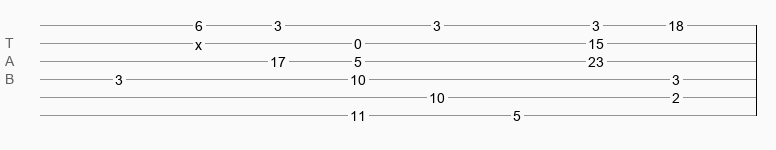0: (354, 36, 362, 46)
10: (350, 72, 366, 82), (429, 90, 445, 100)
11: (350, 108, 366, 118)
15: (588, 36, 604, 46)
17: (270, 54, 286, 64)
18: (668, 18, 684, 28)
2: (672, 90, 680, 100)
23: (588, 54, 604, 64)
3: (115, 72, 123, 82), (274, 18, 282, 28), (433, 18, 441, 28), (592, 18, 600, 28), (672, 72, 680, 82)
5: (354, 54, 362, 64), (513, 108, 521, 118)
6: (195, 18, 203, 28)
x: (195, 37, 202, 45)
